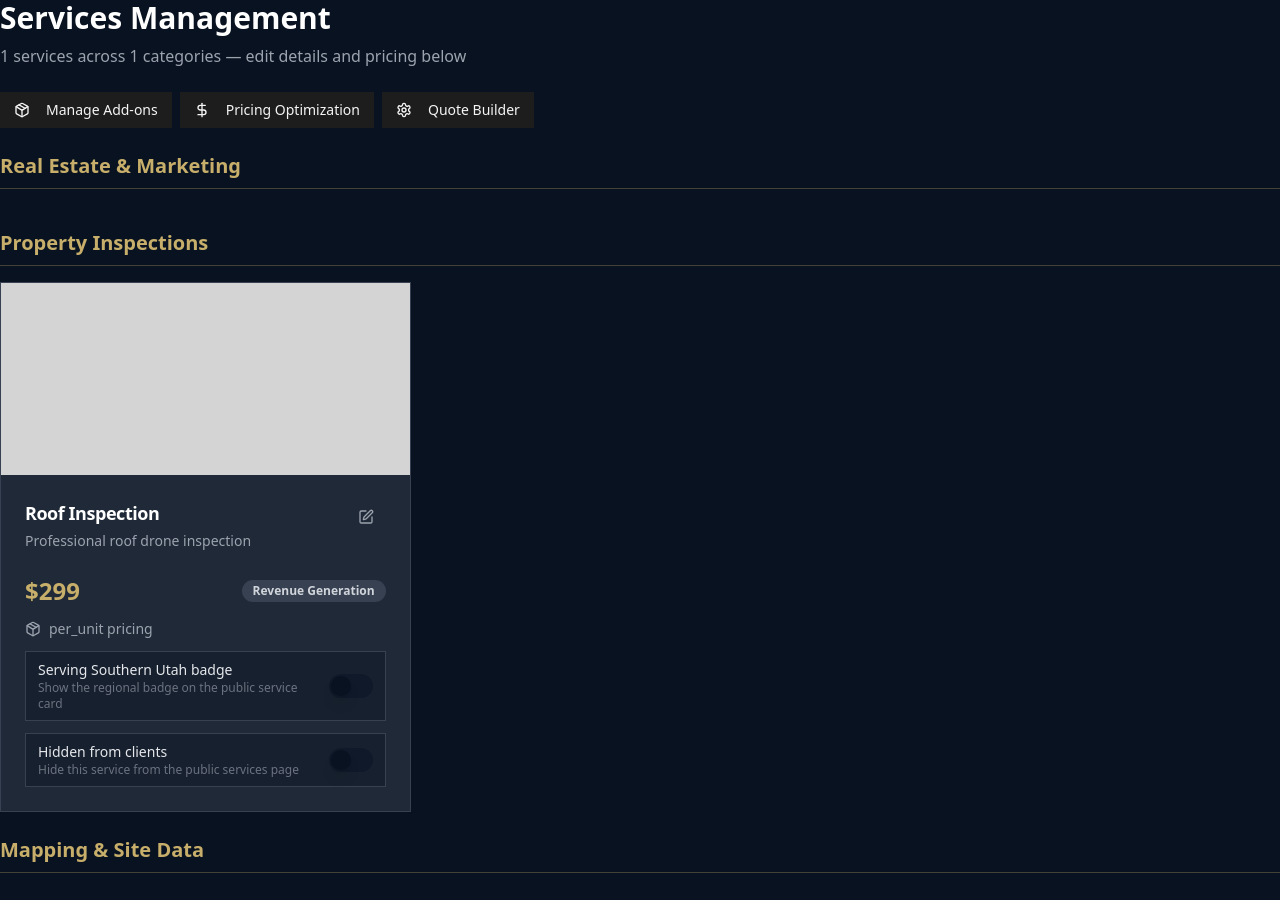
it: ServicesManagement – disclaimer preview updates live › preview panel appears when disclaimer text is entered
Expected: the heading "Roof Inspection" is shown, [25,501,159,525]
Click the 4th button: point(366, 517) [346,499,386,535]
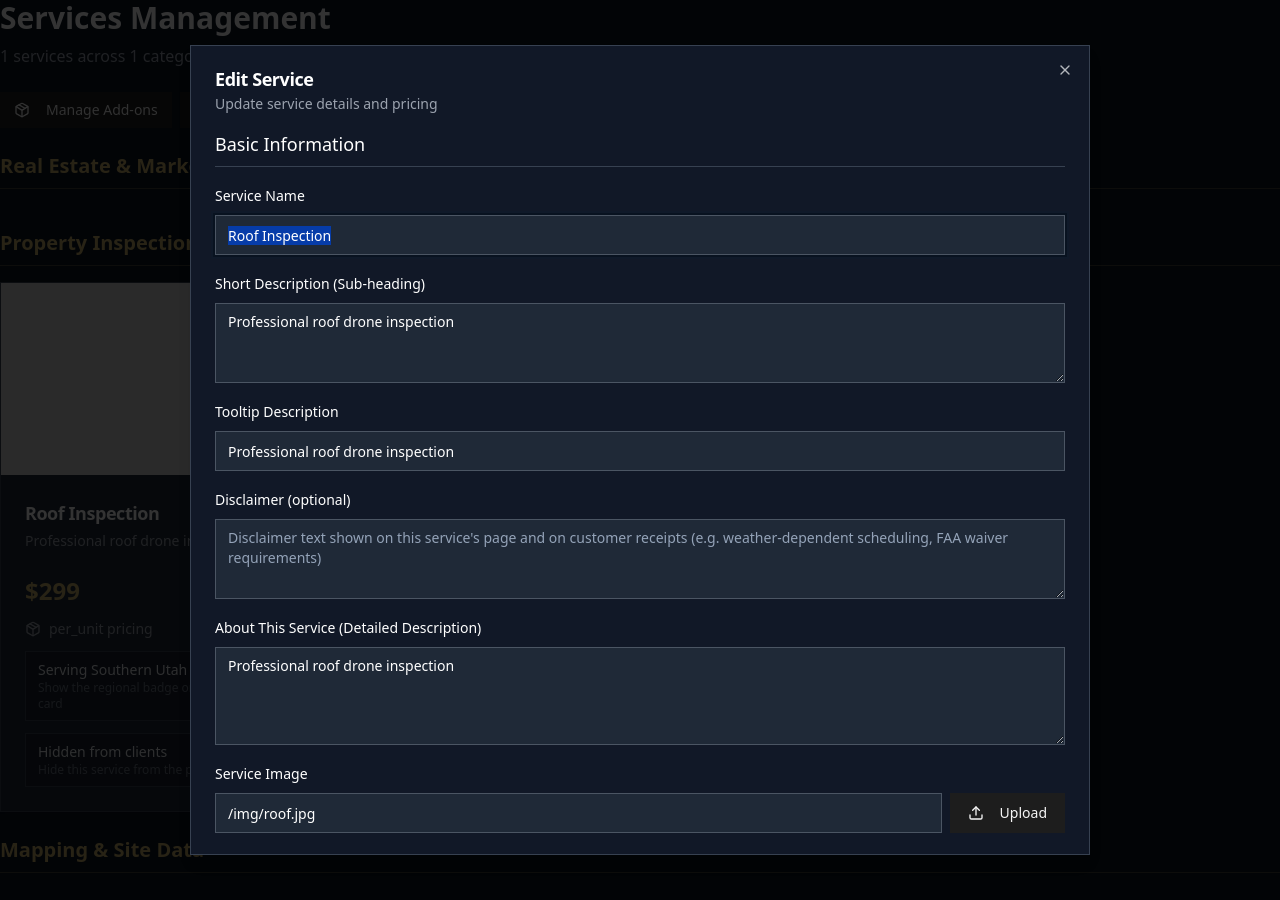
Expected: the text "Preview disclaimer" is not shown
Expected: the dialog is shown
Expected: the text box labelled "Disclaimer (optional)" is shown
Replace the text in the text box labelled "Disclaimer (optional)" with "Weather-dependent scheduling applies.": point(640, 559) [215,519,1065,599]
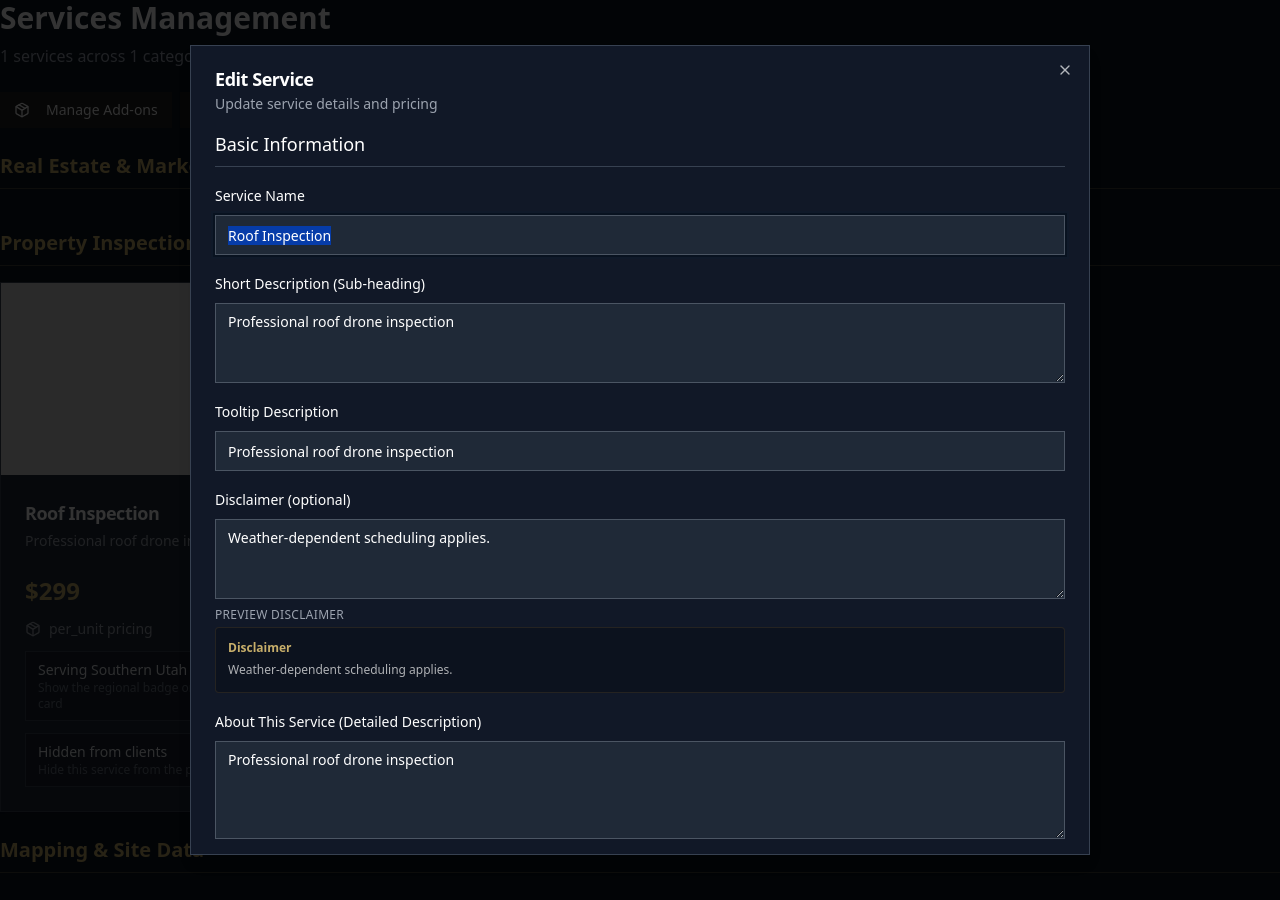
Expected: the text "Preview disclaimer" is shown, [215,606,344,623]
